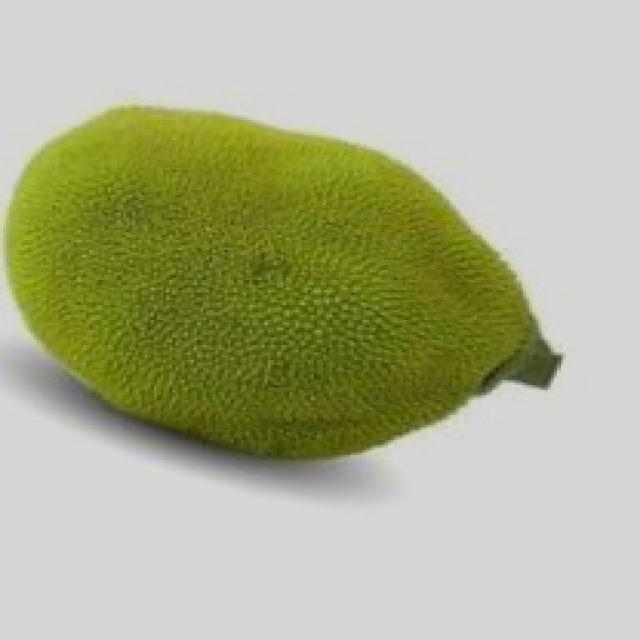Fruit: (178, 100, 554, 482)
